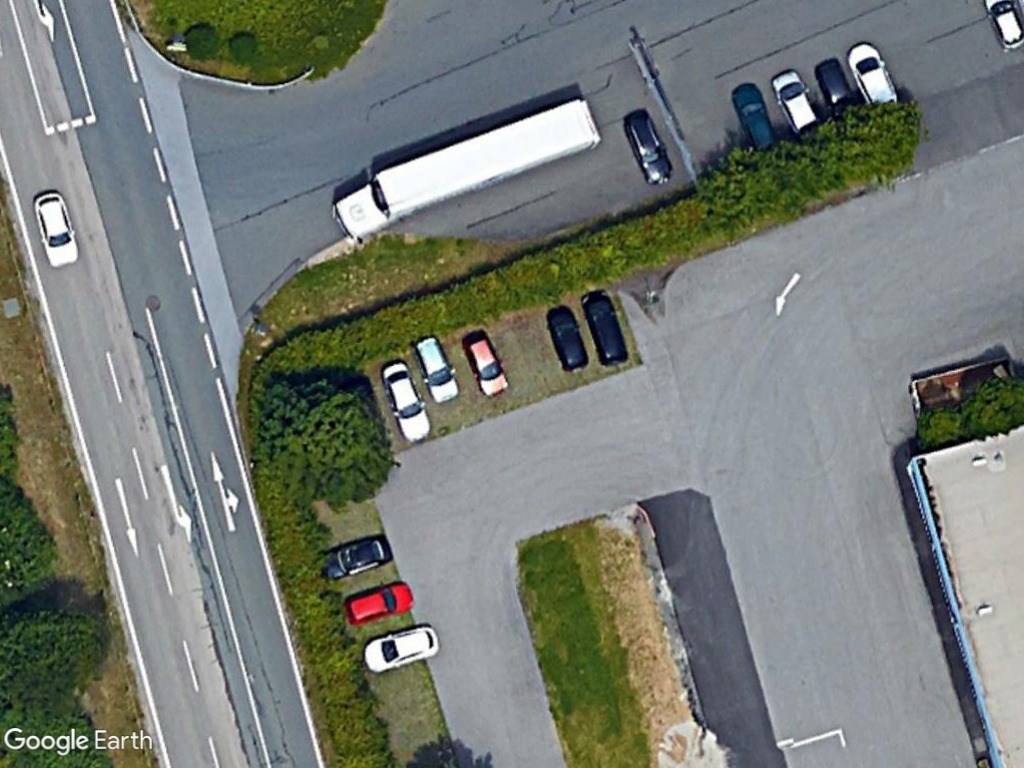car: (378, 356, 436, 446), (359, 617, 444, 677), (27, 185, 83, 273), (623, 106, 679, 191), (844, 37, 902, 116), (343, 573, 422, 630), (765, 64, 822, 140), (315, 528, 392, 584), (411, 327, 463, 408), (459, 329, 512, 402), (581, 292, 631, 369), (728, 77, 778, 153), (544, 302, 594, 376)
truck: (328, 87, 603, 249)
